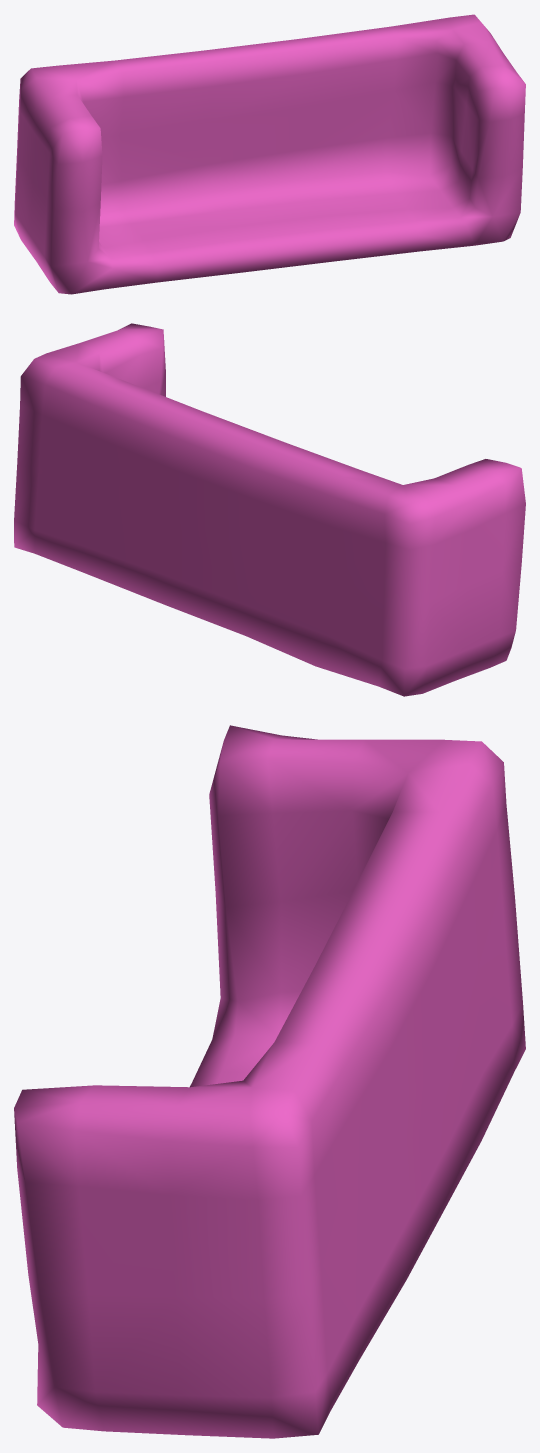
The model's file is audiencestand.glb.
The picture shows the model from 3 angles, top to bottom: view 1: azimuth 30°, elevation 25°; view 2: azimuth 150°, elevation 25°; view 3: azimuth 270°, elevation 25°; orthographic projection. The views are drawn at different scales.
Parts seen in each view (by area): view 1: Audience 2.002; view 2: Audience 2.002; view 3: Audience 2.002.
Boxes of the visible parts, box(x1,y1,x2,y2) form: Audience 2.002: box(14, 14, 525, 294); Audience 2.002: box(14, 323, 525, 696); Audience 2.002: box(14, 725, 525, 1438).
Bounding box in the file's own units: 7.07 × 2.77 × 3.73.
